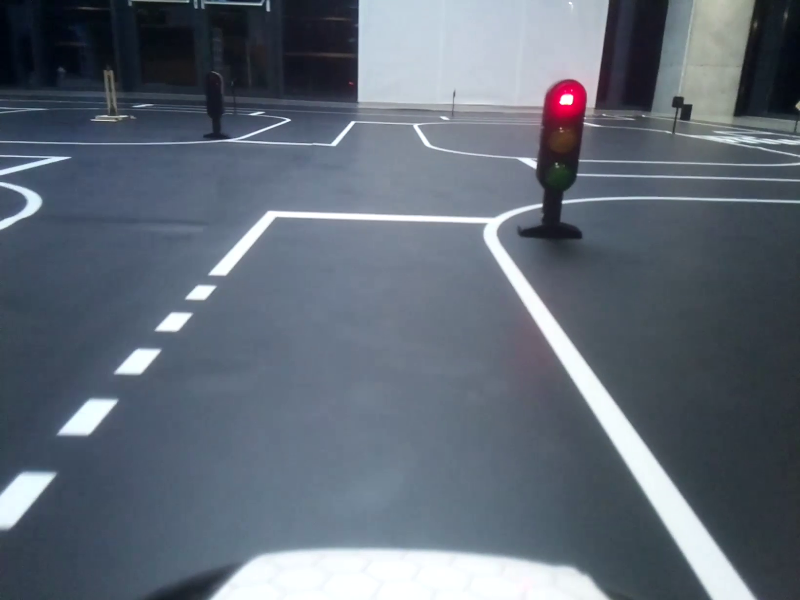traffic_red: (544, 77, 580, 195)
